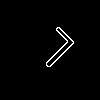L: (25, 25, 77, 77)
